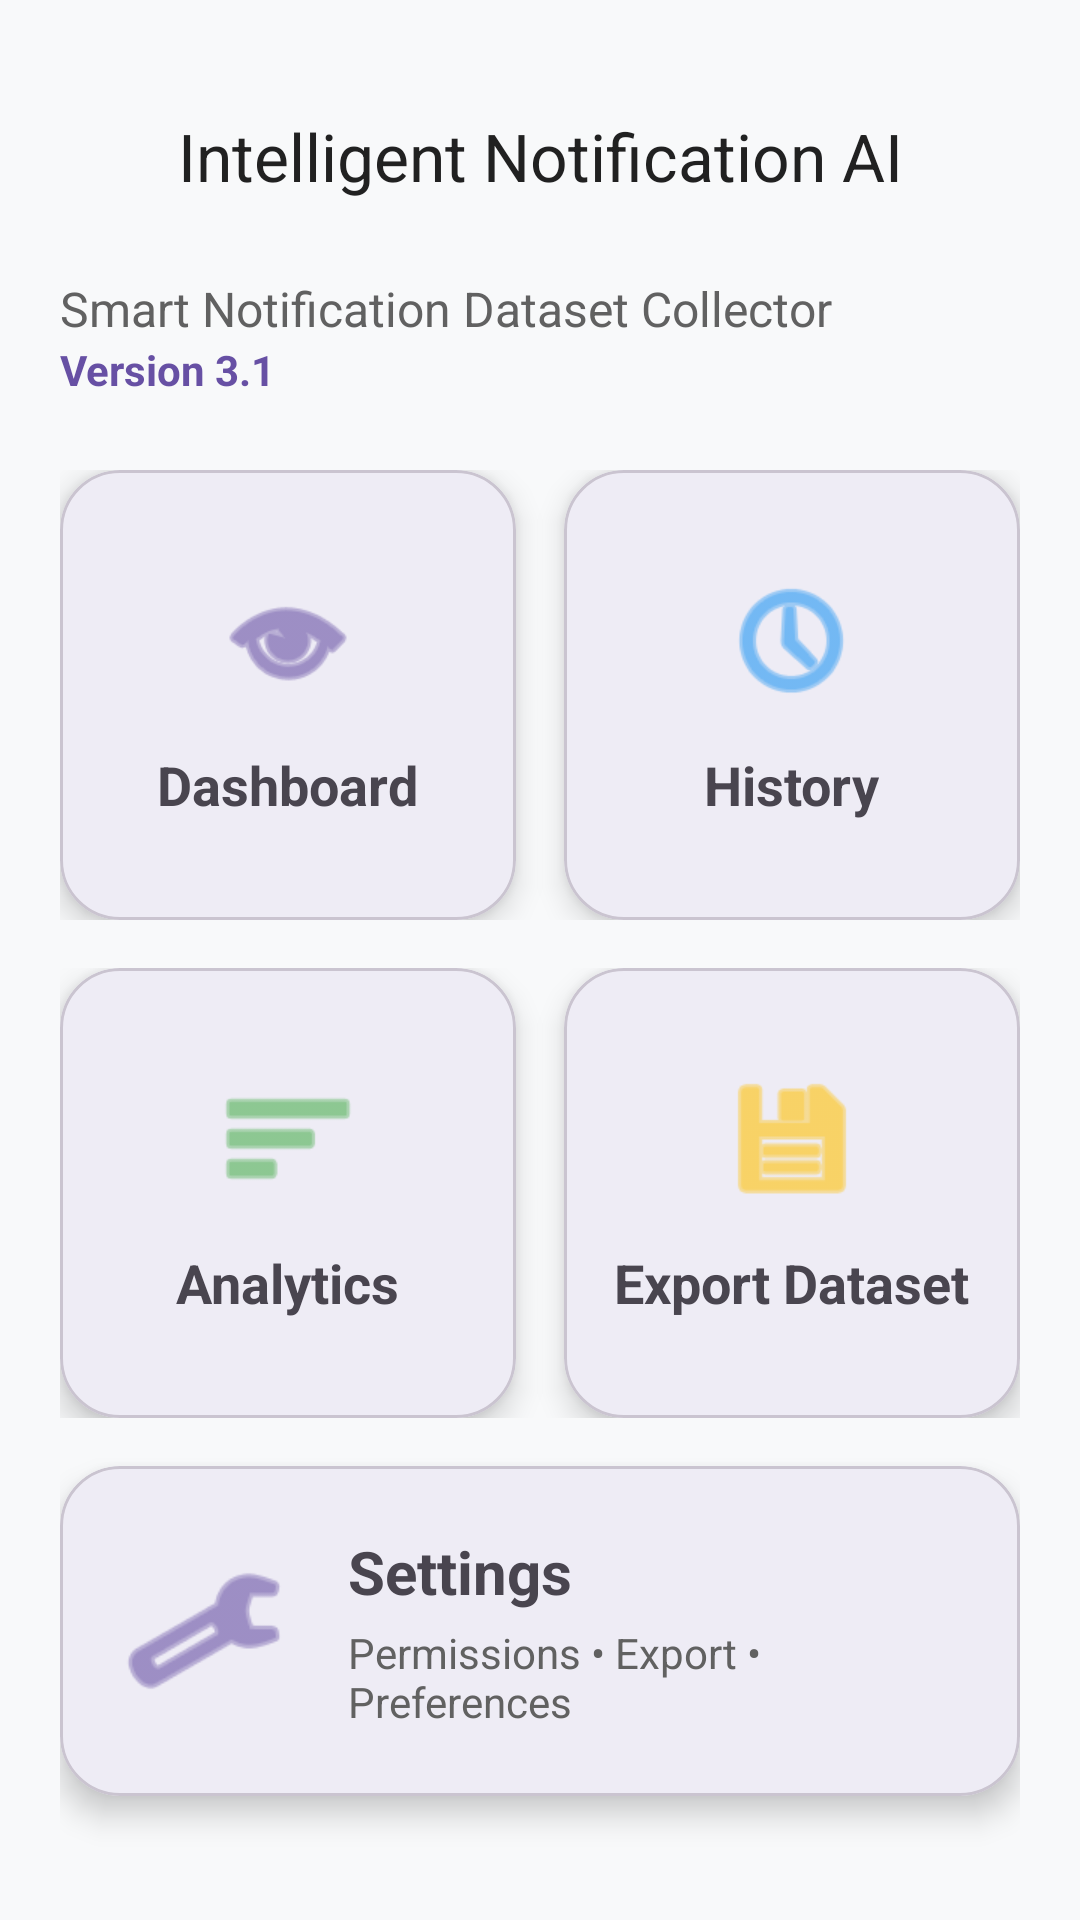

Icons on this 1080px x 1920px Android screen, each with the point to tap as point (x, y):
manage: point (204, 1631)
save: point (792, 1139)
sort by size: point (288, 1139)
view: point (288, 643)
